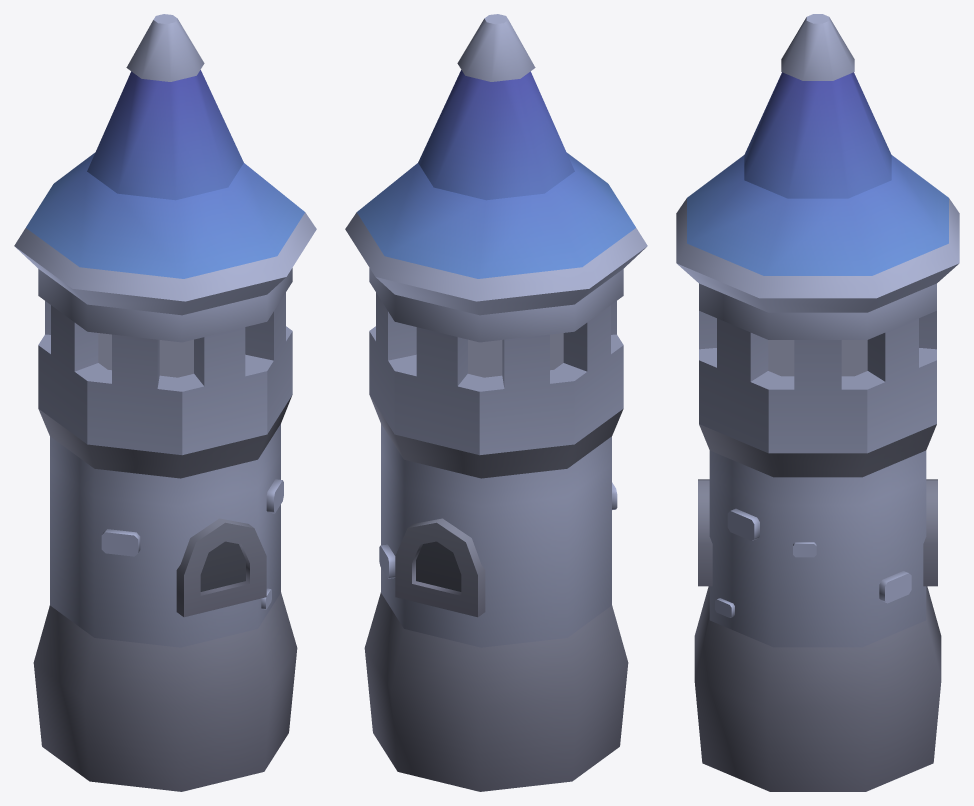
File: lighthouse.glb
3 views of the same model, side by side, from view 1: azimuth 30°, elevation 25°; view 2: azimuth 150°, elevation 25°; view 3: azimuth 270°, elevation 25° (orthographic).
Parts seen in each view (by area): view 1: tower-complete-large; view 2: tower-complete-large; view 3: tower-complete-large.
Part boxes in pixels (<box>): tower-complete-large: <box>14,14,316,791</box>; tower-complete-large: <box>345,14,647,791</box>; tower-complete-large: <box>676,14,959,791</box>.
Bounding box in the file's own units: 3.63 × 10.22 × 3.63.
1 material, 1 textured.
